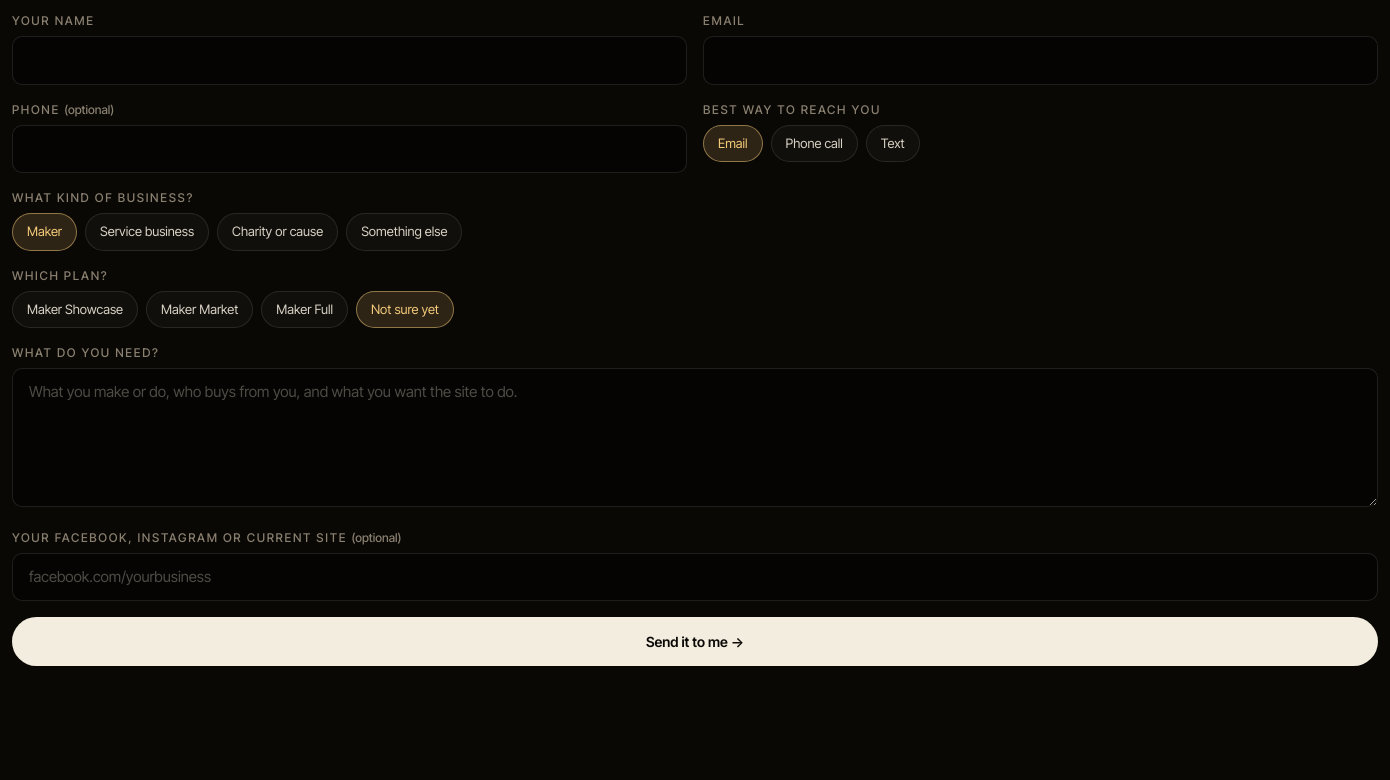
Scenario: InquiryForm — on a pricing page › offers the audience’s plans and sends the one picked
Expected: the element "Which plan" shows "Maker Market", x1=161 y1=300 x2=238 y2=316
Expected: the element "Which plan" shows "Maker Full", x1=276 y1=300 x2=333 y2=316
Click the radio button labelled "Maker Full": (305, 309) x1=261 y1=290 x2=348 y2=328
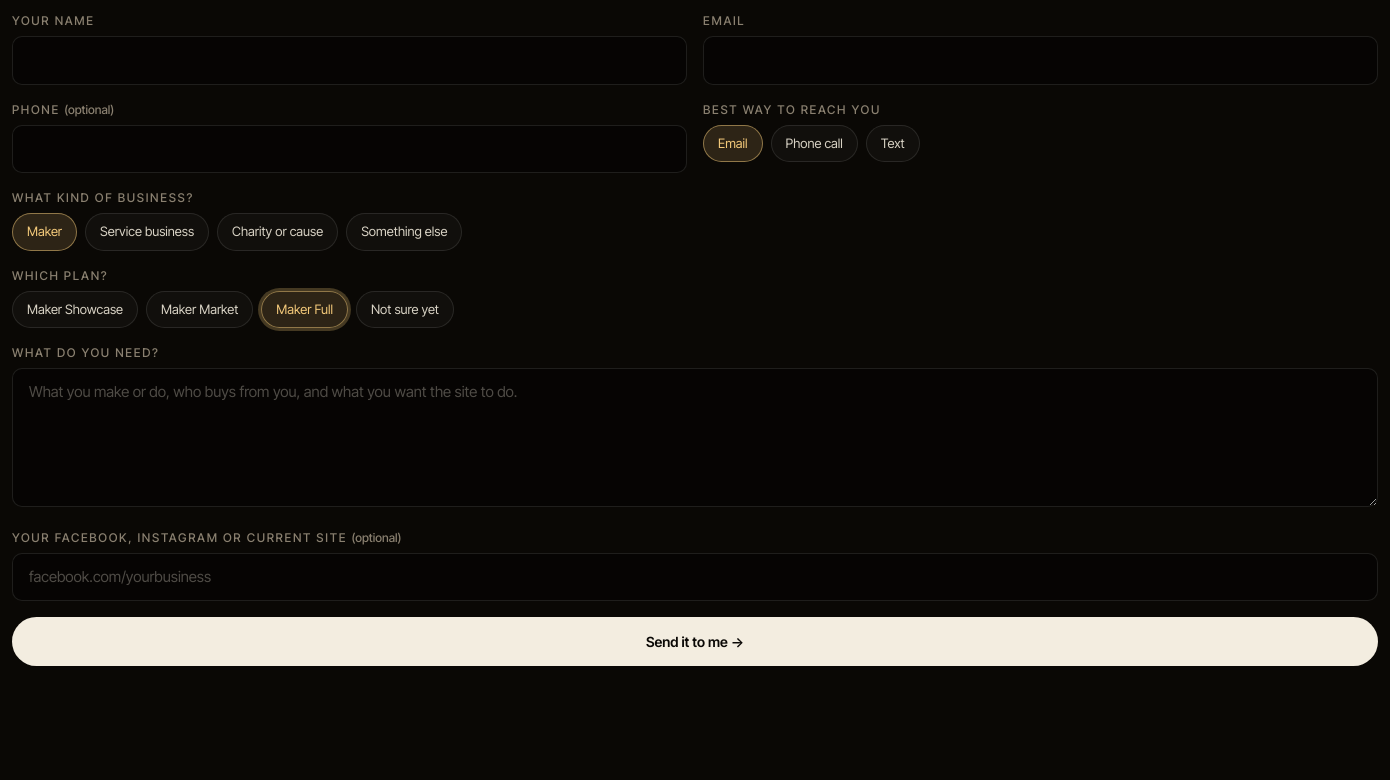
In the field labelled "Your name": (350, 60) x1=12 y1=36 x2=687 y2=84, type "Pat"
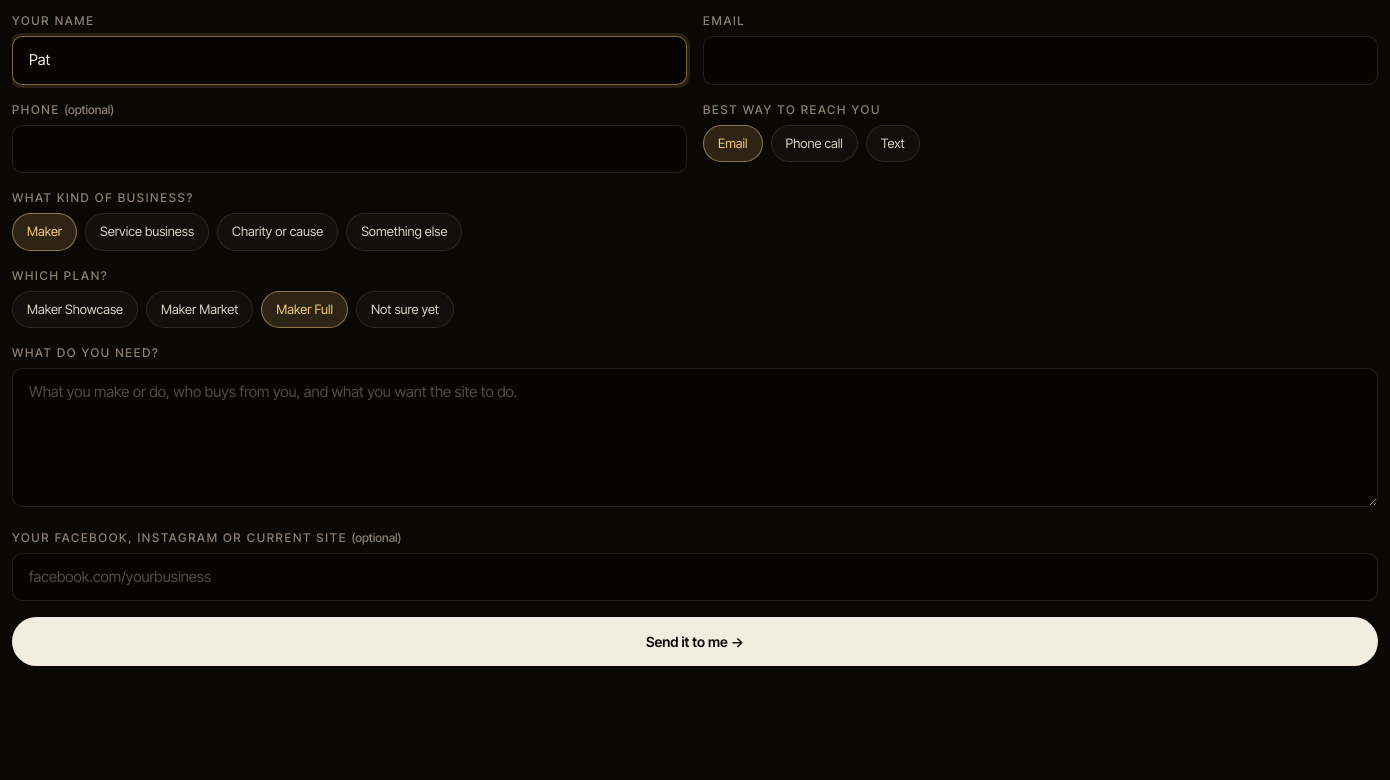
In the field labelled "Email": (1040, 60) x1=703 y1=36 x2=1378 y2=84, type "pat@example.com"
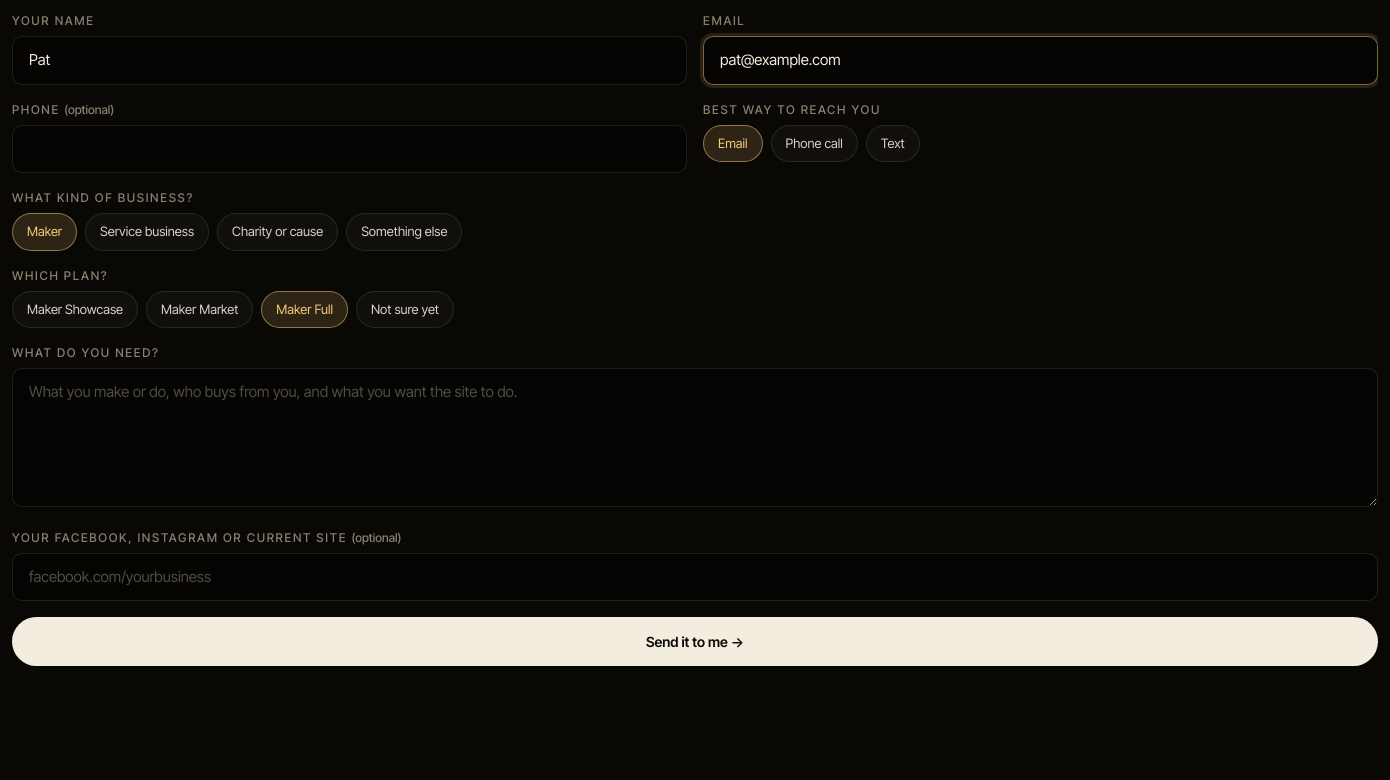
In the text box labelled "What do you need?": (695, 437) x1=12 y1=368 x2=1378 y2=506, type "Candles"
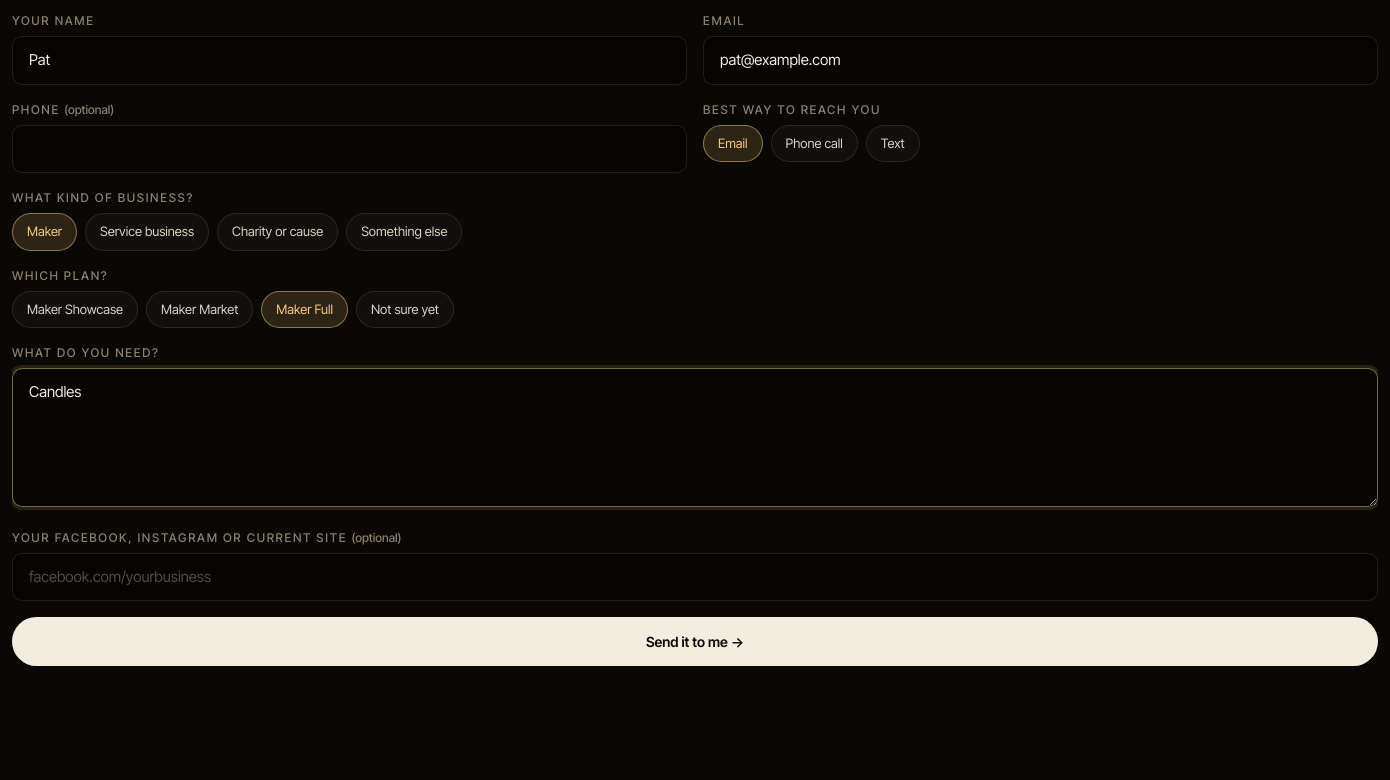
Click the button "Send it to me →": (695, 642) x1=12 y1=617 x2=1378 y2=666
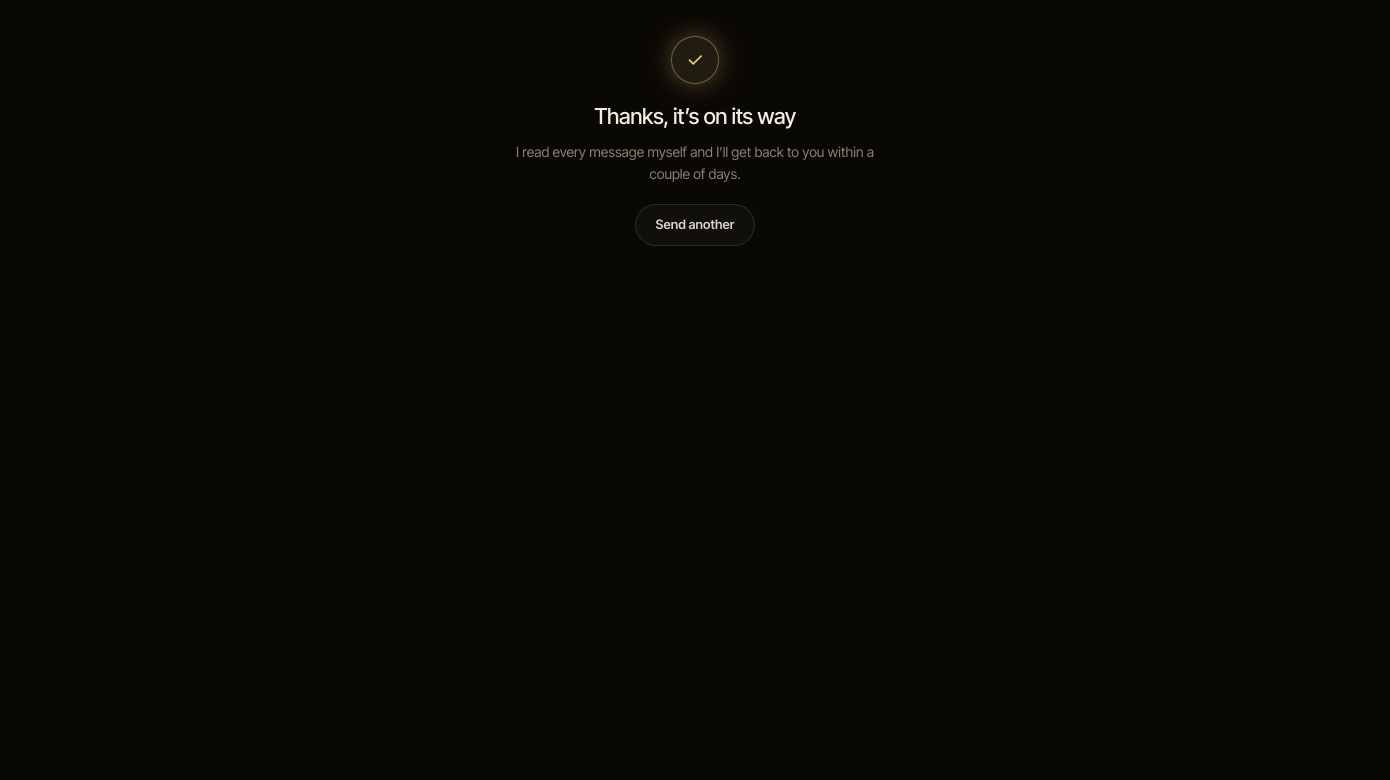
Result: the message is shown at x1=516 y1=36 x2=874 y2=246
